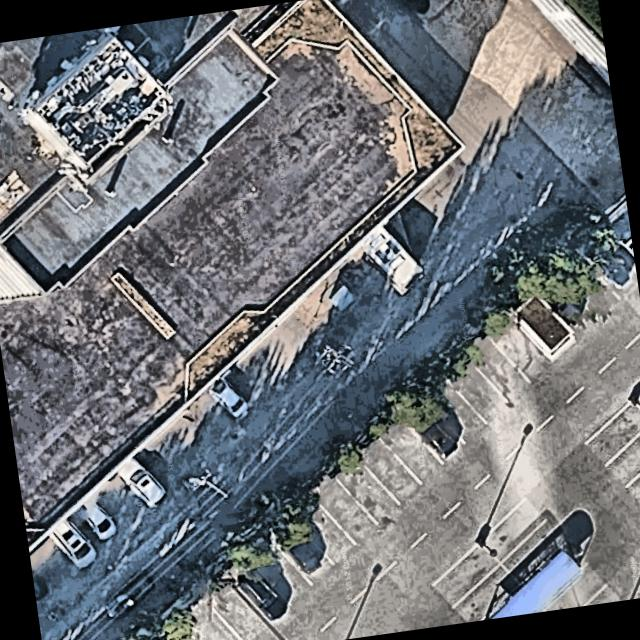car: (233, 557, 287, 623), (407, 402, 461, 458), (285, 511, 322, 573), (609, 218, 634, 255)
lot_boundary: (155, 201, 640, 640)
objects: (481, 538, 588, 621), (511, 290, 575, 357)
stall: (288, 493, 356, 563), (441, 353, 509, 423), (245, 535, 313, 604), (310, 473, 377, 543), (377, 413, 444, 483), (355, 434, 422, 504), (398, 393, 465, 463), (486, 313, 553, 383), (465, 333, 532, 403), (420, 372, 487, 442), (535, 266, 602, 336), (333, 454, 400, 523), (267, 514, 334, 583), (224, 555, 291, 624), (557, 245, 624, 314), (432, 541, 500, 606), (501, 518, 568, 583), (481, 497, 548, 562), (202, 575, 269, 640), (578, 225, 638, 295), (454, 562, 522, 622), (585, 399, 640, 465), (544, 566, 609, 611), (178, 597, 242, 640), (600, 207, 636, 266), (606, 433, 640, 485), (583, 582, 626, 606), (156, 618, 199, 640)
